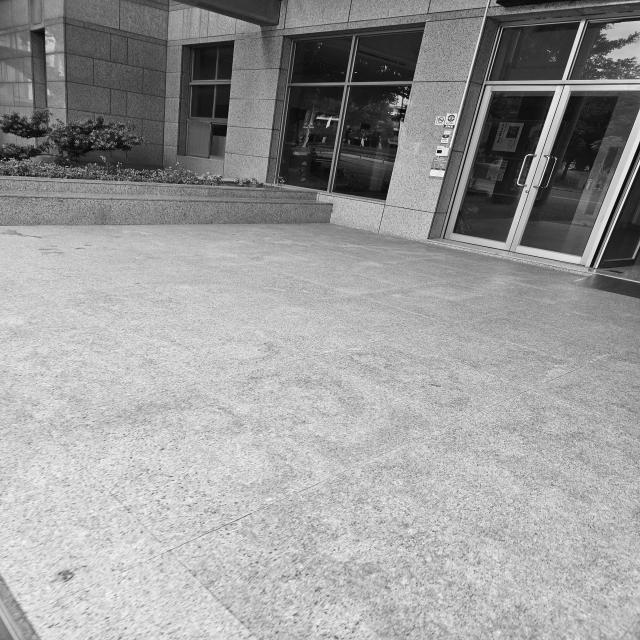Road-Object: (0, 224, 640, 640)
